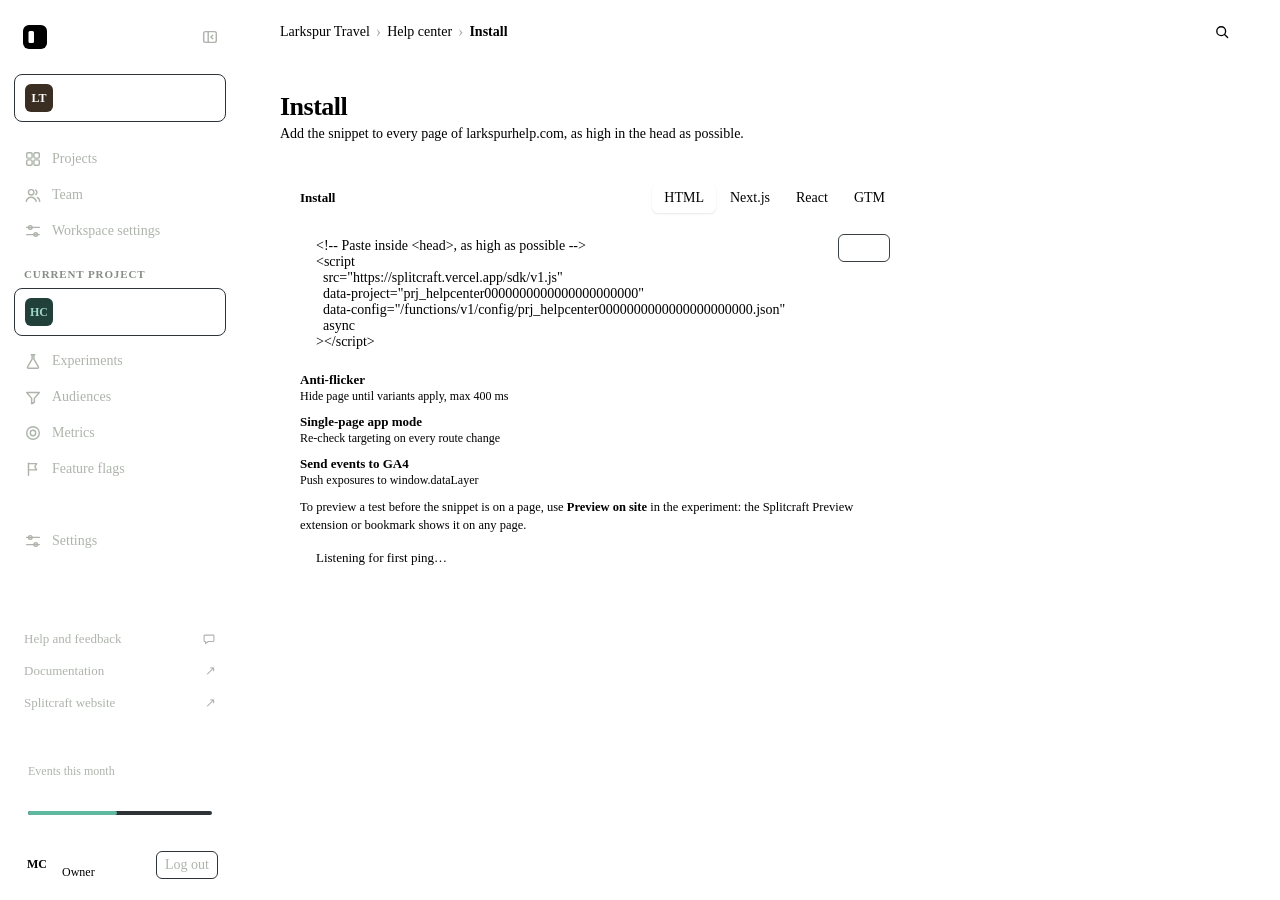
Scenario: install tabs › switch between targets with clicks and arrow keys, and copy the code
This screenshot has width=1280, height=900.
Expected: the heading "Install" is shown, [280,92,347,121]
Click the tab "Next.js": (750, 198) [718,183,782,213]
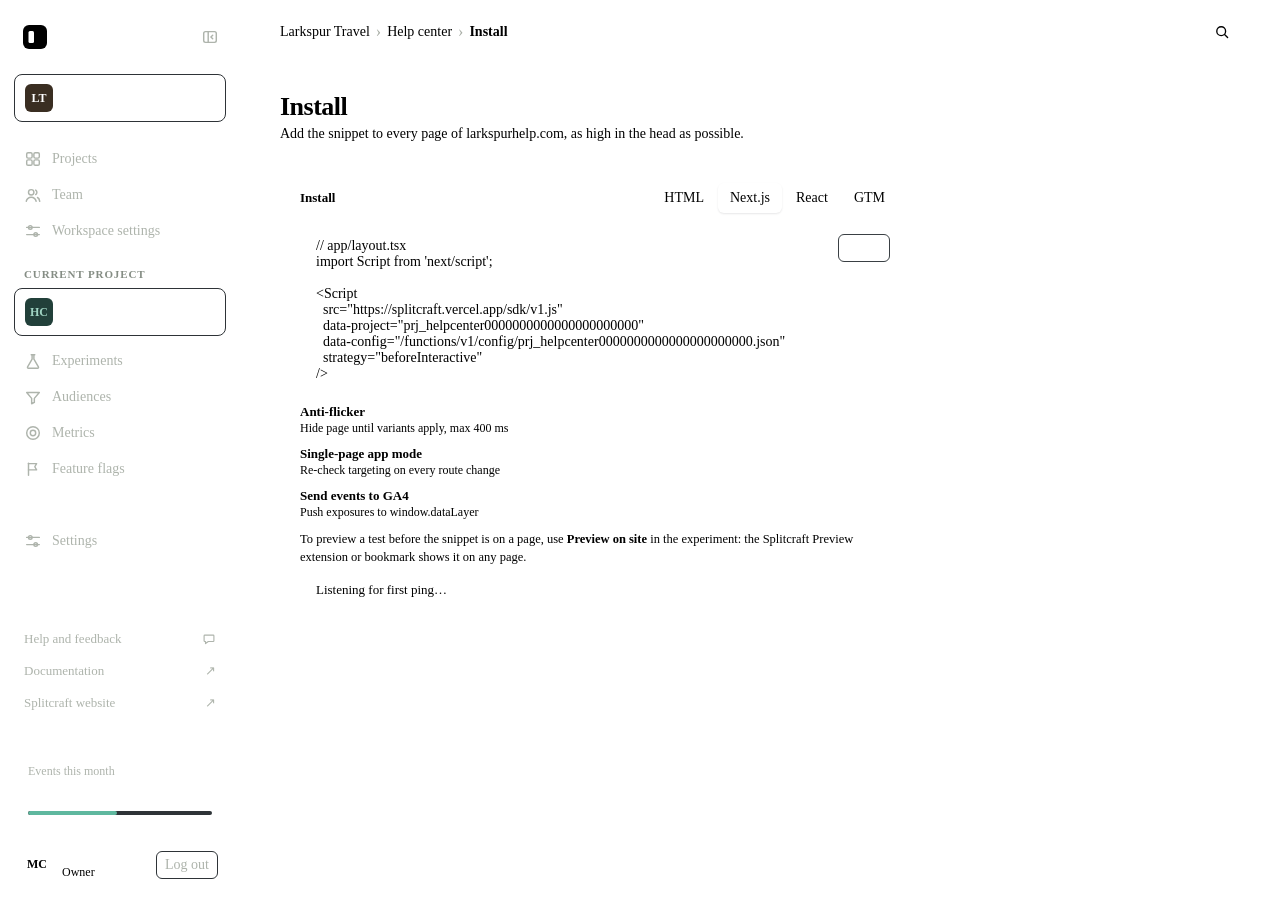
Expected: the text named "Install code" shows "strategy=\"beforeInteractive\"", [316,238,785,381]
Press Arrowright
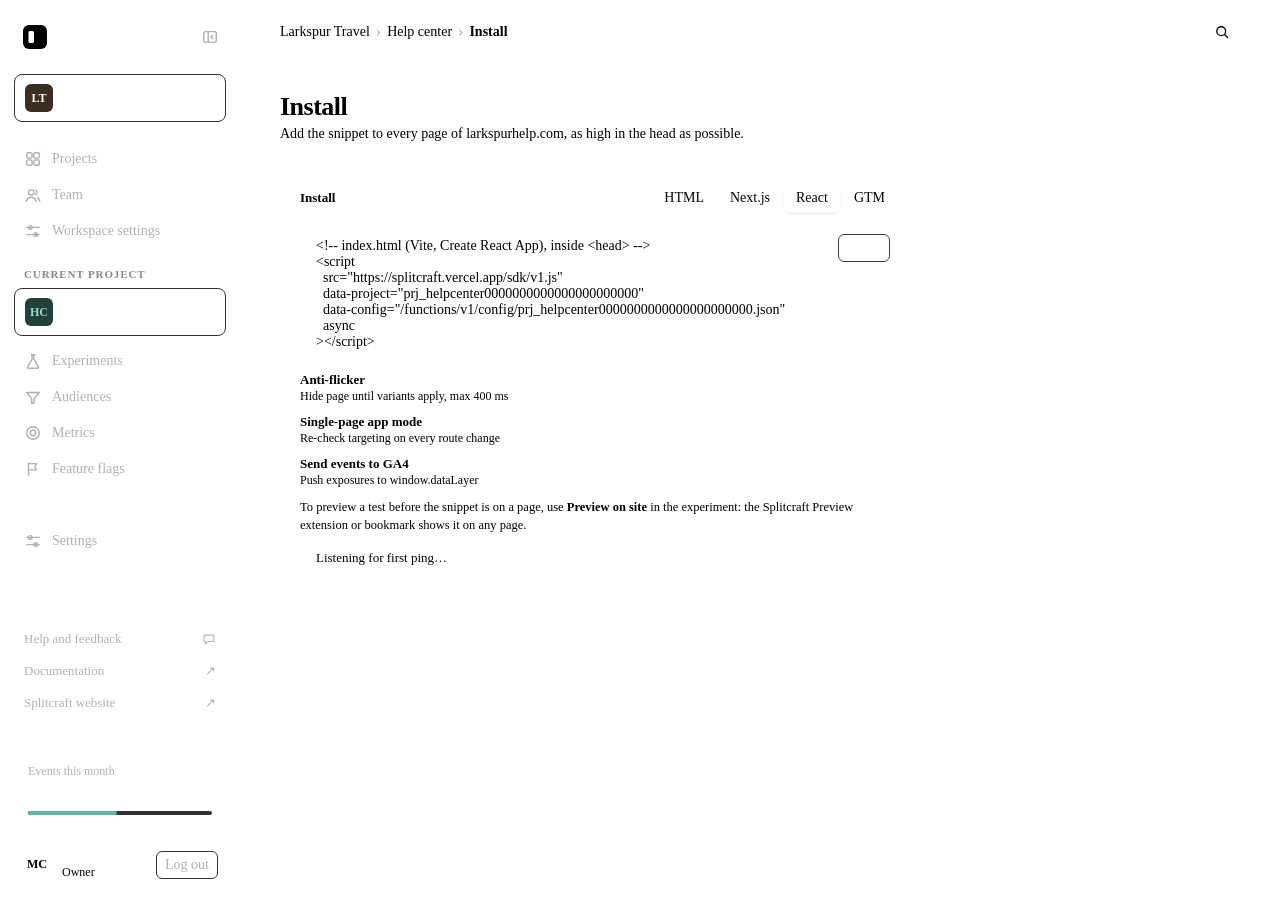
Press Arrowright Arrowright
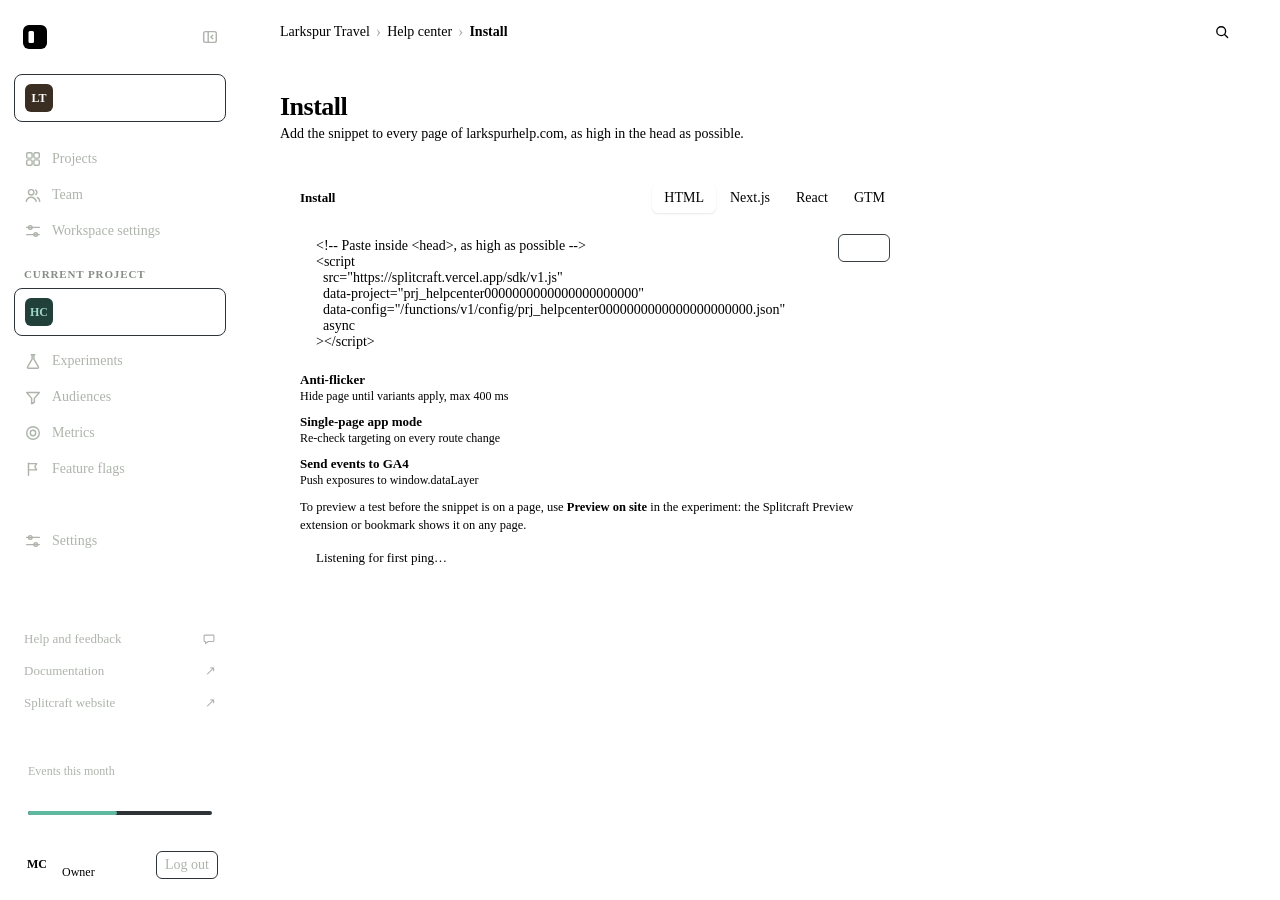
Click the button "Copy": (864, 248) [838,234,890,262]
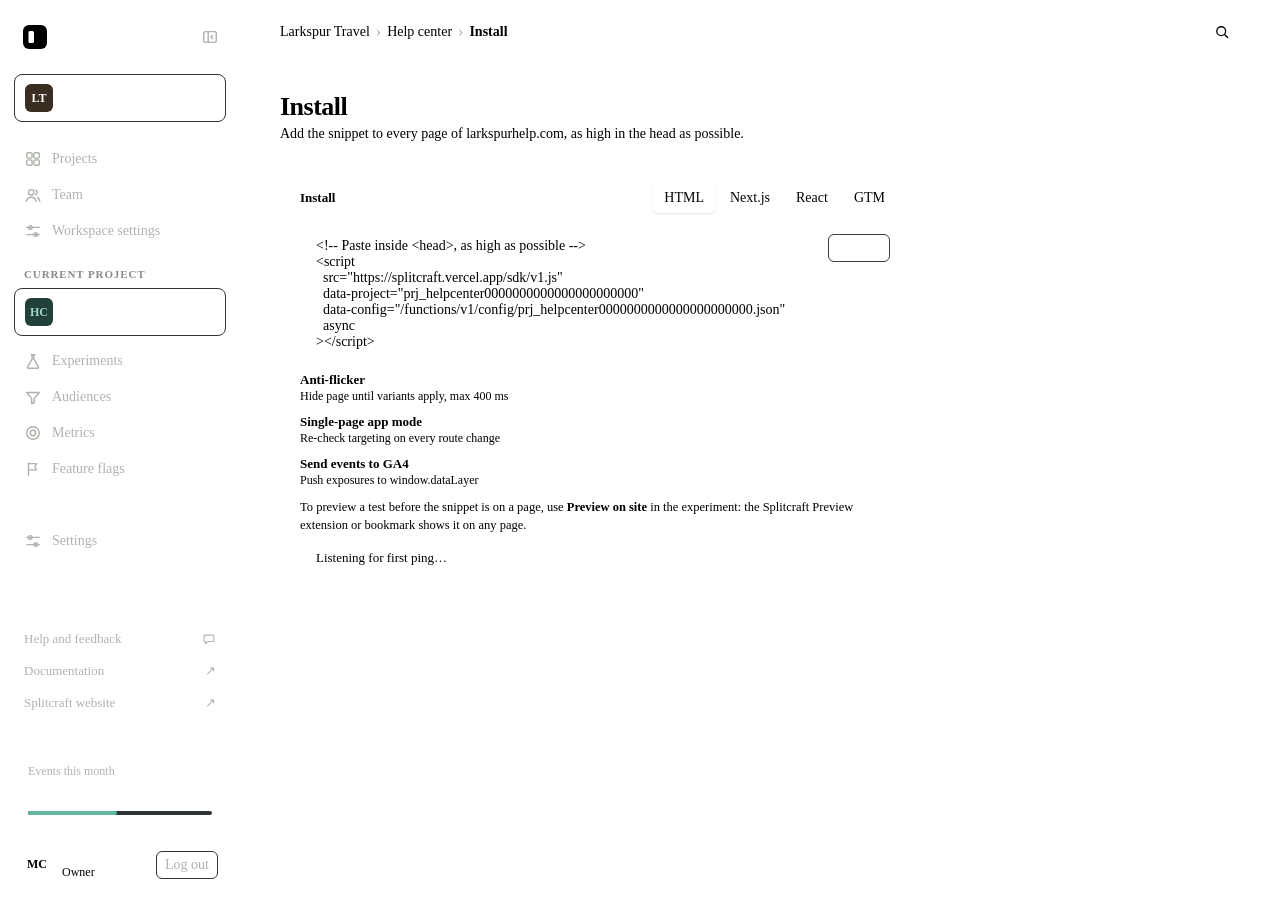
Expected: the message reads "Listening for first ping…", [316,550,447,565]
Expected: the button "Copied" is shown, [828,234,890,262]
